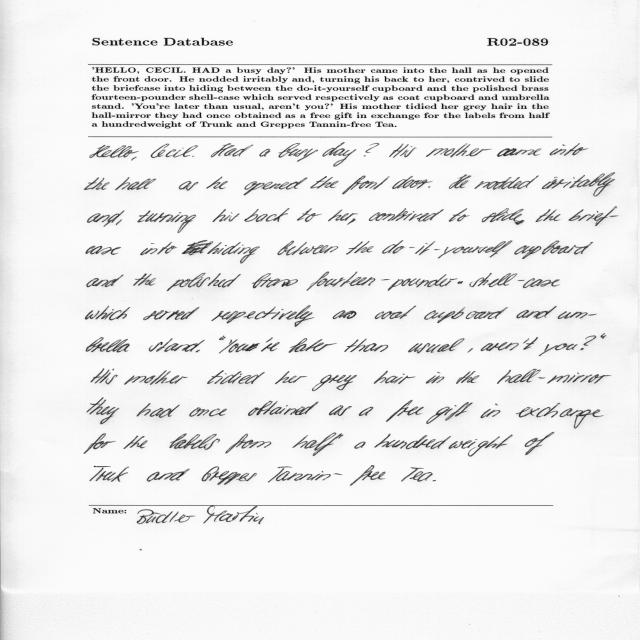word: (374, 434, 513, 457), (307, 272, 463, 291), (268, 465, 385, 486), (382, 241, 513, 259), (516, 403, 604, 429), (212, 305, 315, 327), (182, 240, 260, 264), (542, 173, 615, 197), (497, 369, 611, 384), (515, 241, 594, 259), (469, 273, 560, 288), (424, 307, 508, 323), (167, 273, 241, 291), (137, 211, 196, 233), (293, 432, 344, 456), (539, 335, 596, 356), (244, 178, 308, 196), (248, 401, 318, 416), (202, 466, 257, 485), (426, 402, 473, 424), (474, 175, 539, 190), (124, 370, 188, 385), (569, 207, 619, 226), (426, 144, 492, 158), (225, 434, 271, 454), (277, 241, 338, 256), (342, 176, 389, 195), (169, 433, 220, 450), (87, 397, 119, 424), (386, 400, 424, 422), (323, 143, 357, 167), (207, 370, 265, 384), (481, 337, 538, 351), (90, 145, 139, 161), (149, 338, 205, 352), (391, 208, 444, 222), (143, 307, 199, 320), (289, 338, 337, 353), (312, 375, 357, 391), (482, 208, 524, 225), (252, 274, 298, 289), (84, 433, 116, 454), (525, 432, 554, 455), (86, 306, 130, 321), (86, 337, 130, 352), (151, 144, 198, 158), (137, 403, 180, 418), (244, 208, 290, 222), (88, 210, 125, 227), (90, 466, 129, 482), (219, 339, 260, 354), (211, 144, 253, 158), (345, 339, 389, 352), (147, 469, 190, 482), (438, 338, 474, 353), (115, 177, 156, 190), (392, 176, 433, 189), (375, 306, 416, 319), (374, 371, 415, 384), (550, 143, 588, 156), (516, 306, 557, 318), (141, 242, 178, 255), (87, 275, 124, 288), (328, 209, 358, 225), (401, 467, 433, 482), (278, 143, 308, 157), (275, 371, 307, 384), (91, 369, 118, 384), (497, 148, 541, 157), (311, 176, 339, 189), (346, 241, 374, 254), (213, 209, 240, 222), (297, 208, 322, 222), (189, 408, 227, 417), (84, 177, 110, 190), (449, 174, 471, 189), (536, 209, 561, 222), (123, 436, 148, 449), (86, 246, 121, 255), (558, 311, 597, 319), (389, 143, 409, 158), (481, 404, 501, 419), (133, 273, 156, 286), (456, 371, 479, 384), (449, 208, 470, 222), (261, 337, 280, 352), (297, 149, 318, 162), (206, 177, 228, 189), (329, 405, 352, 416), (369, 212, 395, 221), (408, 343, 430, 353), (333, 310, 357, 319), (179, 181, 199, 191), (426, 372, 444, 383), (400, 146, 416, 157), (366, 143, 380, 153), (426, 344, 441, 353), (359, 407, 373, 416), (259, 149, 271, 157), (354, 442, 366, 449), (116, 220, 122, 226), (219, 336, 226, 340), (601, 334, 606, 339), (196, 350, 200, 352), (364, 155, 366, 157), (428, 186, 430, 188), (433, 480, 436, 481), (192, 156, 194, 157)
